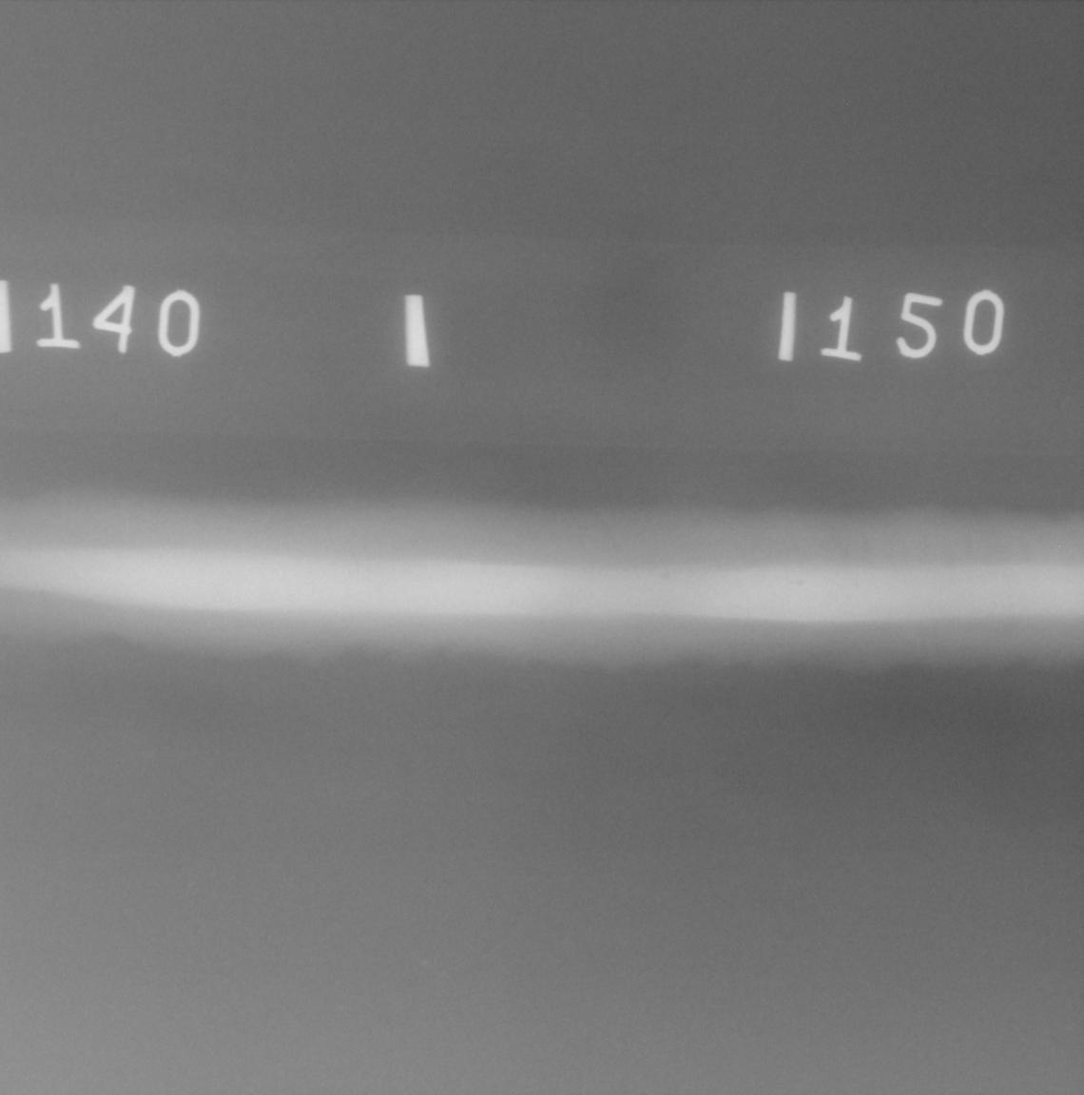Pore/Porosity: (660, 572, 670, 580), (795, 580, 804, 586), (844, 595, 852, 601), (854, 583, 860, 588)
